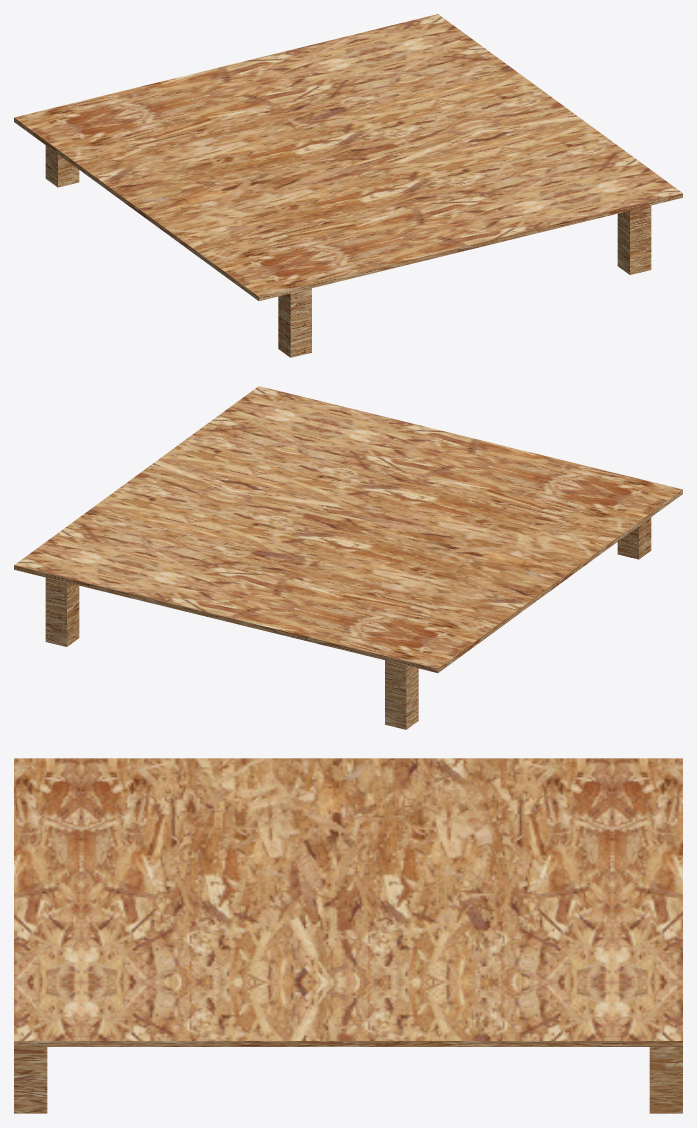
File: semi_elevated_floor.dae
The picture shows the model from 3 angles, top to bottom: view 1: azimuth 30°, elevation 25°; view 2: azimuth 150°, elevation 25°; view 3: azimuth 270°, elevation 25°; orthographic projection. The views are drawn at different scales.
Visible parts, largest first — view 1: Cube_002; view 2: Cube_002; view 3: Cube_002.
Part boxes in pixels (x1,y1,x2,y2): Cube_002: [14, 14, 682, 357]; Cube_002: [14, 386, 682, 729]; Cube_002: [14, 758, 682, 1113].
Size of the model in its own units: 1 by 1 by 0.1552.
1 material, 1 textured.
